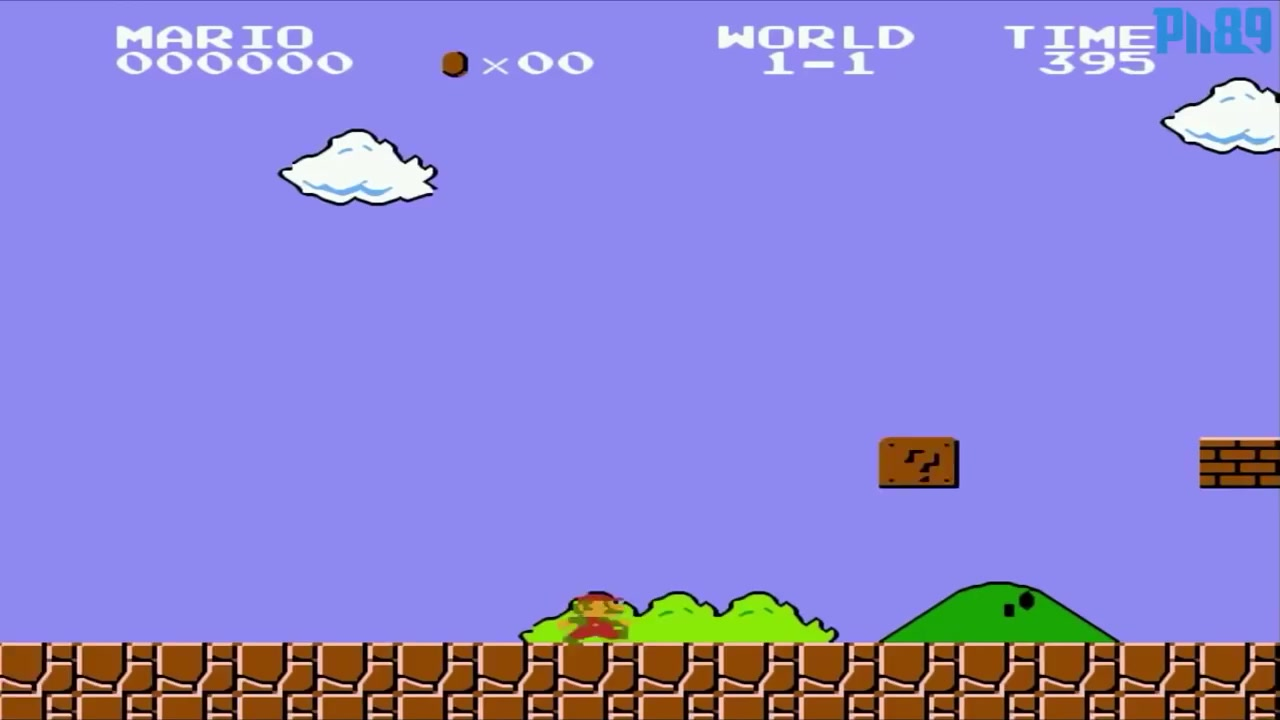mario: (548, 584, 634, 648)
